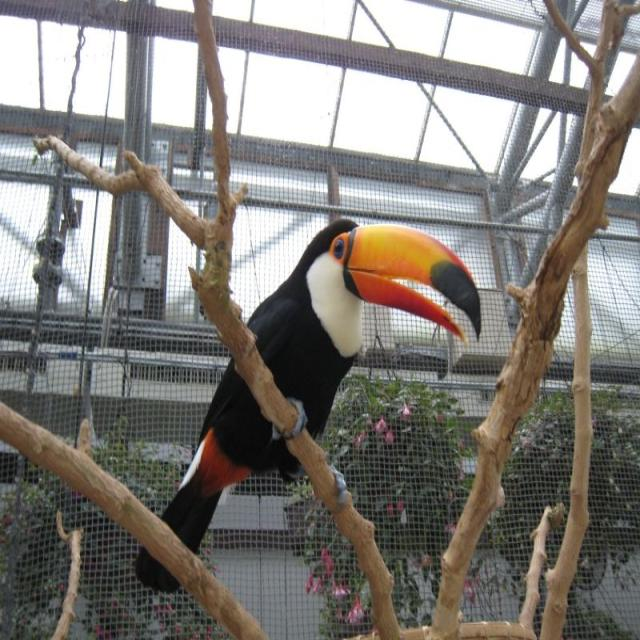bird: (137, 216, 507, 592)
